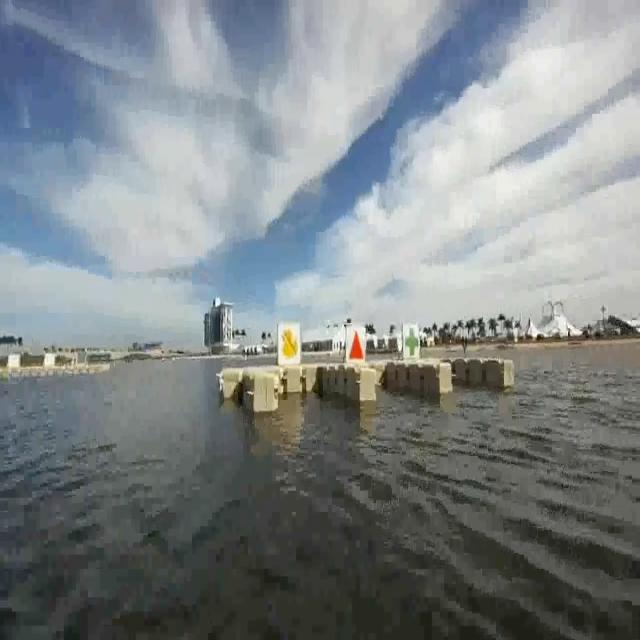blue-cross: (404, 326, 421, 360)
red-dot: (346, 324, 364, 362)
yellow-buoy: (280, 324, 299, 361)
